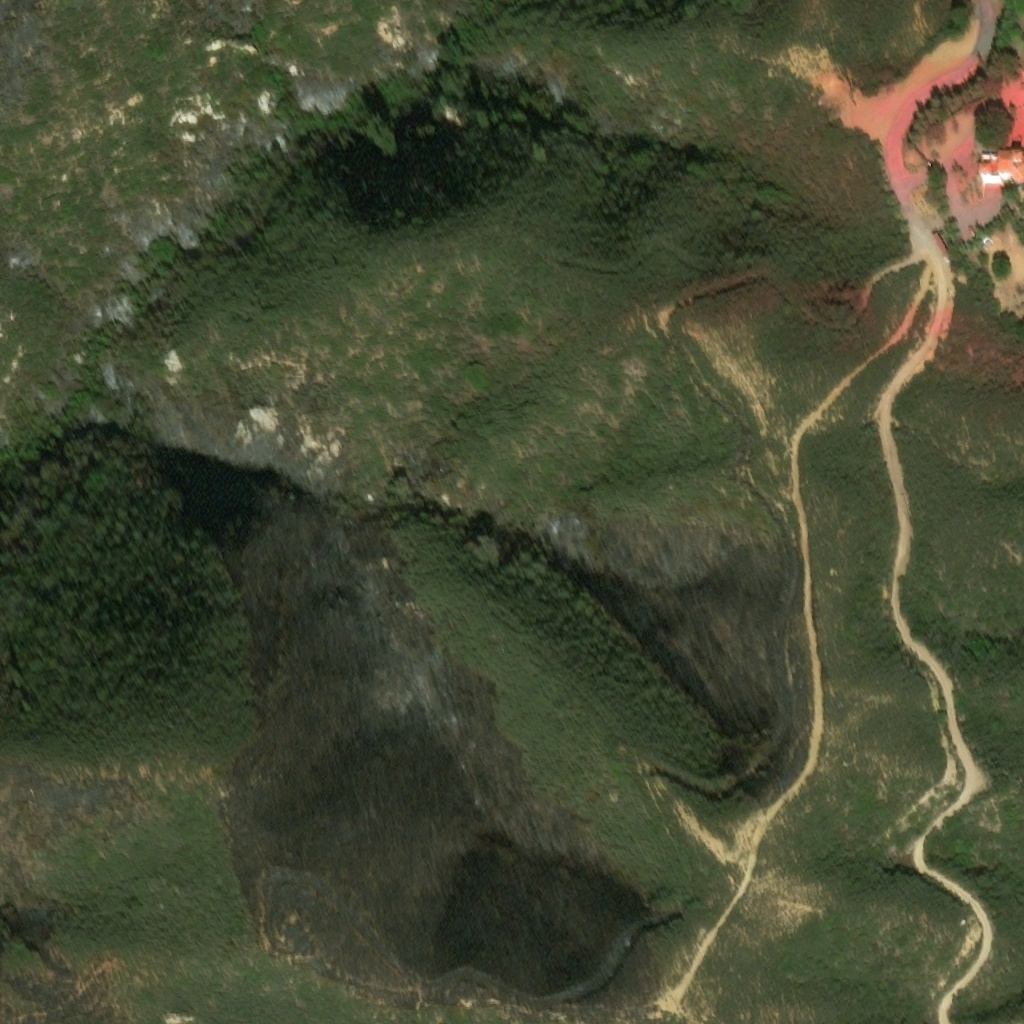0 no-damage: (978, 151, 1023, 188), (932, 233, 950, 257)
